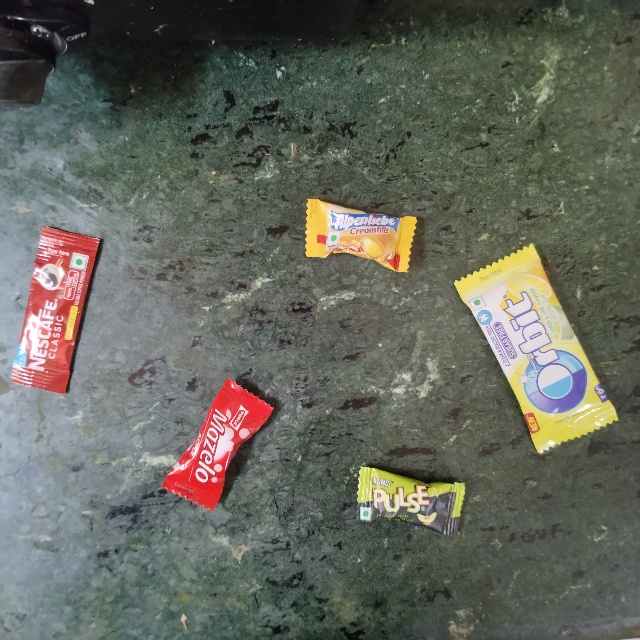Alpenlibe Creamfills: (307, 198, 421, 261)
Mazelo: (221, 375, 285, 500)
Nescafe Coffee: (45, 222, 100, 390)
Orbit: (453, 276, 546, 474)
Pulse: (364, 464, 471, 526)
